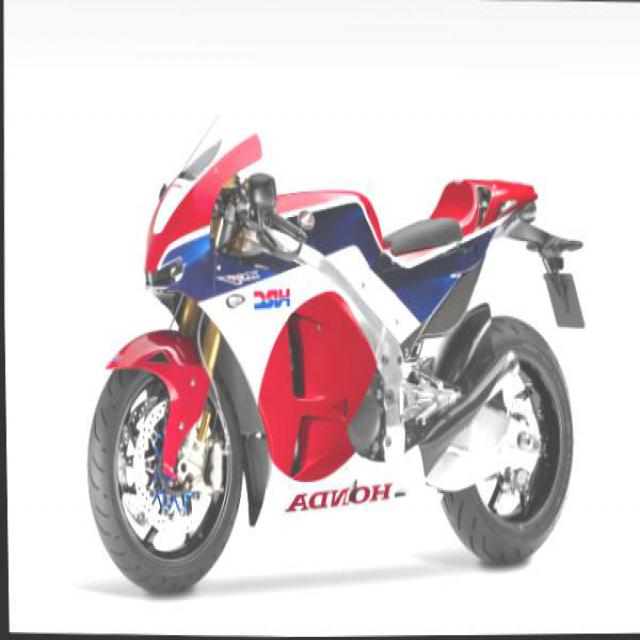HRC RCV 213: (85, 98, 589, 603)
